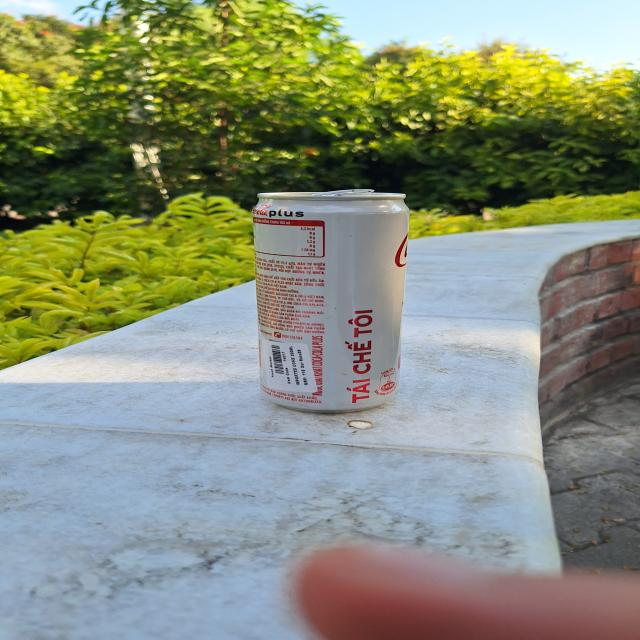Coca Cola Plus: (245, 182, 410, 418)
